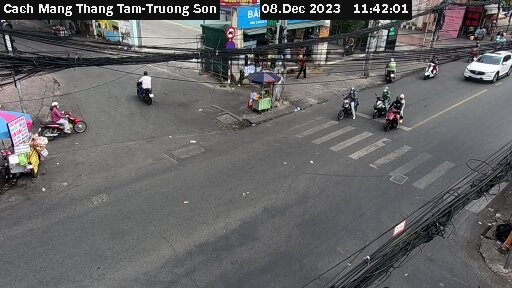car: (462, 49, 512, 93)
motorbike: (36, 101, 90, 141), (127, 70, 167, 103), (380, 94, 410, 129), (335, 88, 365, 121), (416, 50, 440, 79), (381, 54, 403, 85), (370, 89, 390, 113)
